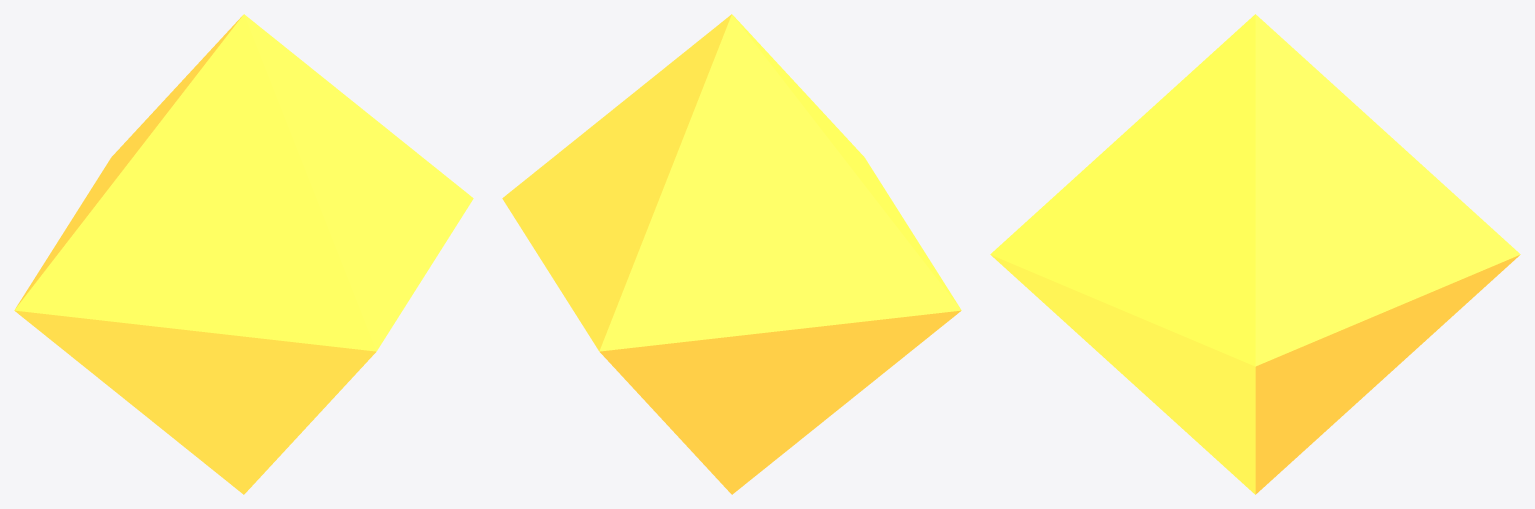
Rendered from hit-feedback.glb.
The picture shows the model from 3 angles, left to right: view 1: azimuth 30°, elevation 25°; view 2: azimuth 150°, elevation 25°; view 3: azimuth 270°, elevation 25°; orthographic projection.
Parts seen in each view (by area): view 1: impact-burst; view 2: impact-burst; view 3: impact-burst.
Part boxes in pixels (x1=…): impact-burst: x1=14, y1=14, x2=473, y2=494; impact-burst: x1=502, y1=14, x2=961, y2=494; impact-burst: x1=990, y1=14, x2=1520, y2=494.
Size of the model in its own units: 0.07 by 0.07 by 0.07.
